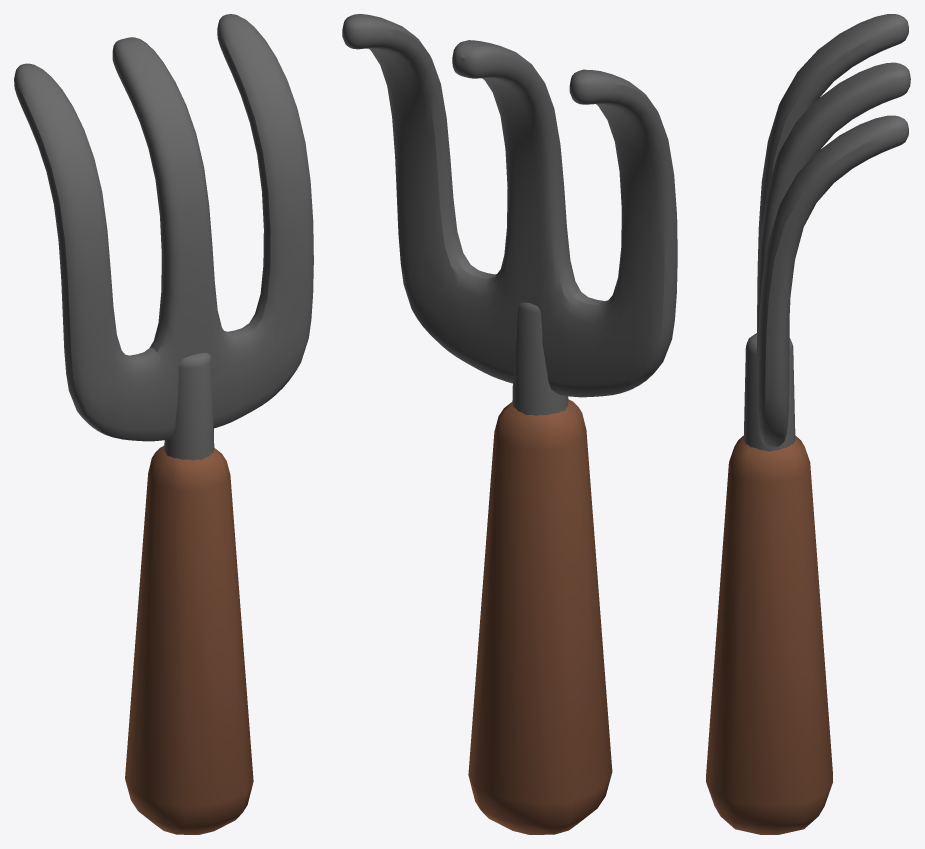
The model's file is Tool2.fbx.
3 views of the same model, side by side, from view 1: azimuth 30°, elevation 25°; view 2: azimuth 150°, elevation 25°; view 3: azimuth 270°, elevation 25° (orthographic). The views are drawn at different scales.
Parts seen in each view (by area): view 1: Cylinder.033; view 2: Cylinder.033; view 3: Cylinder.033.
Boxes of the visible parts, bbox=[...] form: Cylinder.033: bbox=[14, 14, 313, 834]; Cylinder.033: bbox=[342, 14, 677, 834]; Cylinder.033: bbox=[706, 14, 910, 834].
Size of the model in its own units: 0.2537 by 0.1767 by 0.725.
